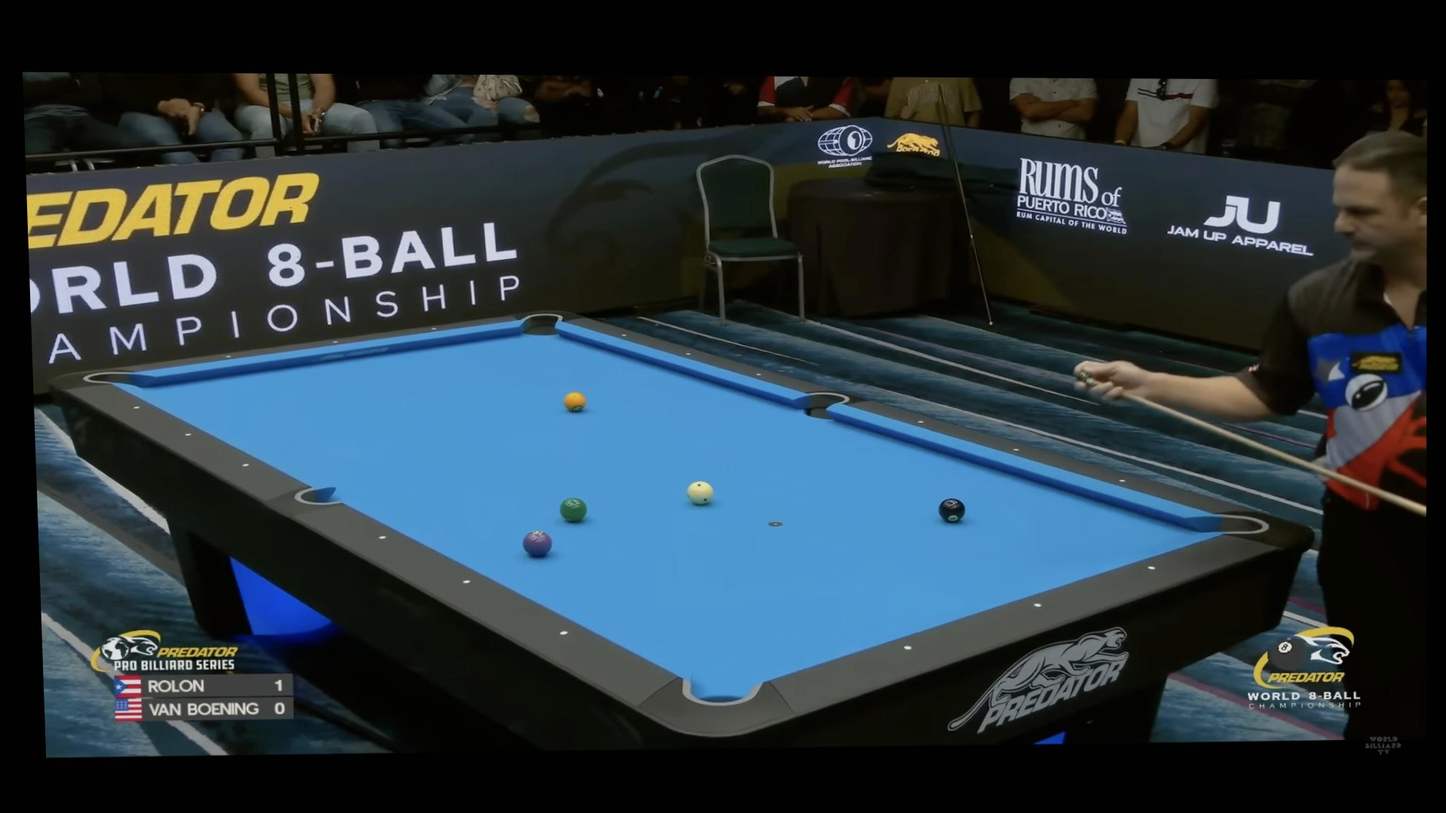Black: (937, 497, 967, 524)
Cue: (687, 480, 714, 506)
Solid: (1031, 599, 1045, 611), (1145, 561, 1159, 573), (901, 642, 914, 654), (558, 628, 570, 639), (460, 577, 472, 588), (376, 532, 388, 543), (242, 461, 251, 470), (183, 430, 192, 439), (132, 403, 141, 411), (1119, 477, 1126, 483), (917, 419, 924, 425), (225, 354, 232, 360), (332, 339, 339, 345), (431, 326, 438, 332), (621, 333, 627, 338), (685, 351, 691, 356), (756, 372, 762, 377), (1013, 448, 1019, 452)
Striped: (522, 529, 553, 556), (559, 497, 588, 523), (563, 391, 586, 413)
